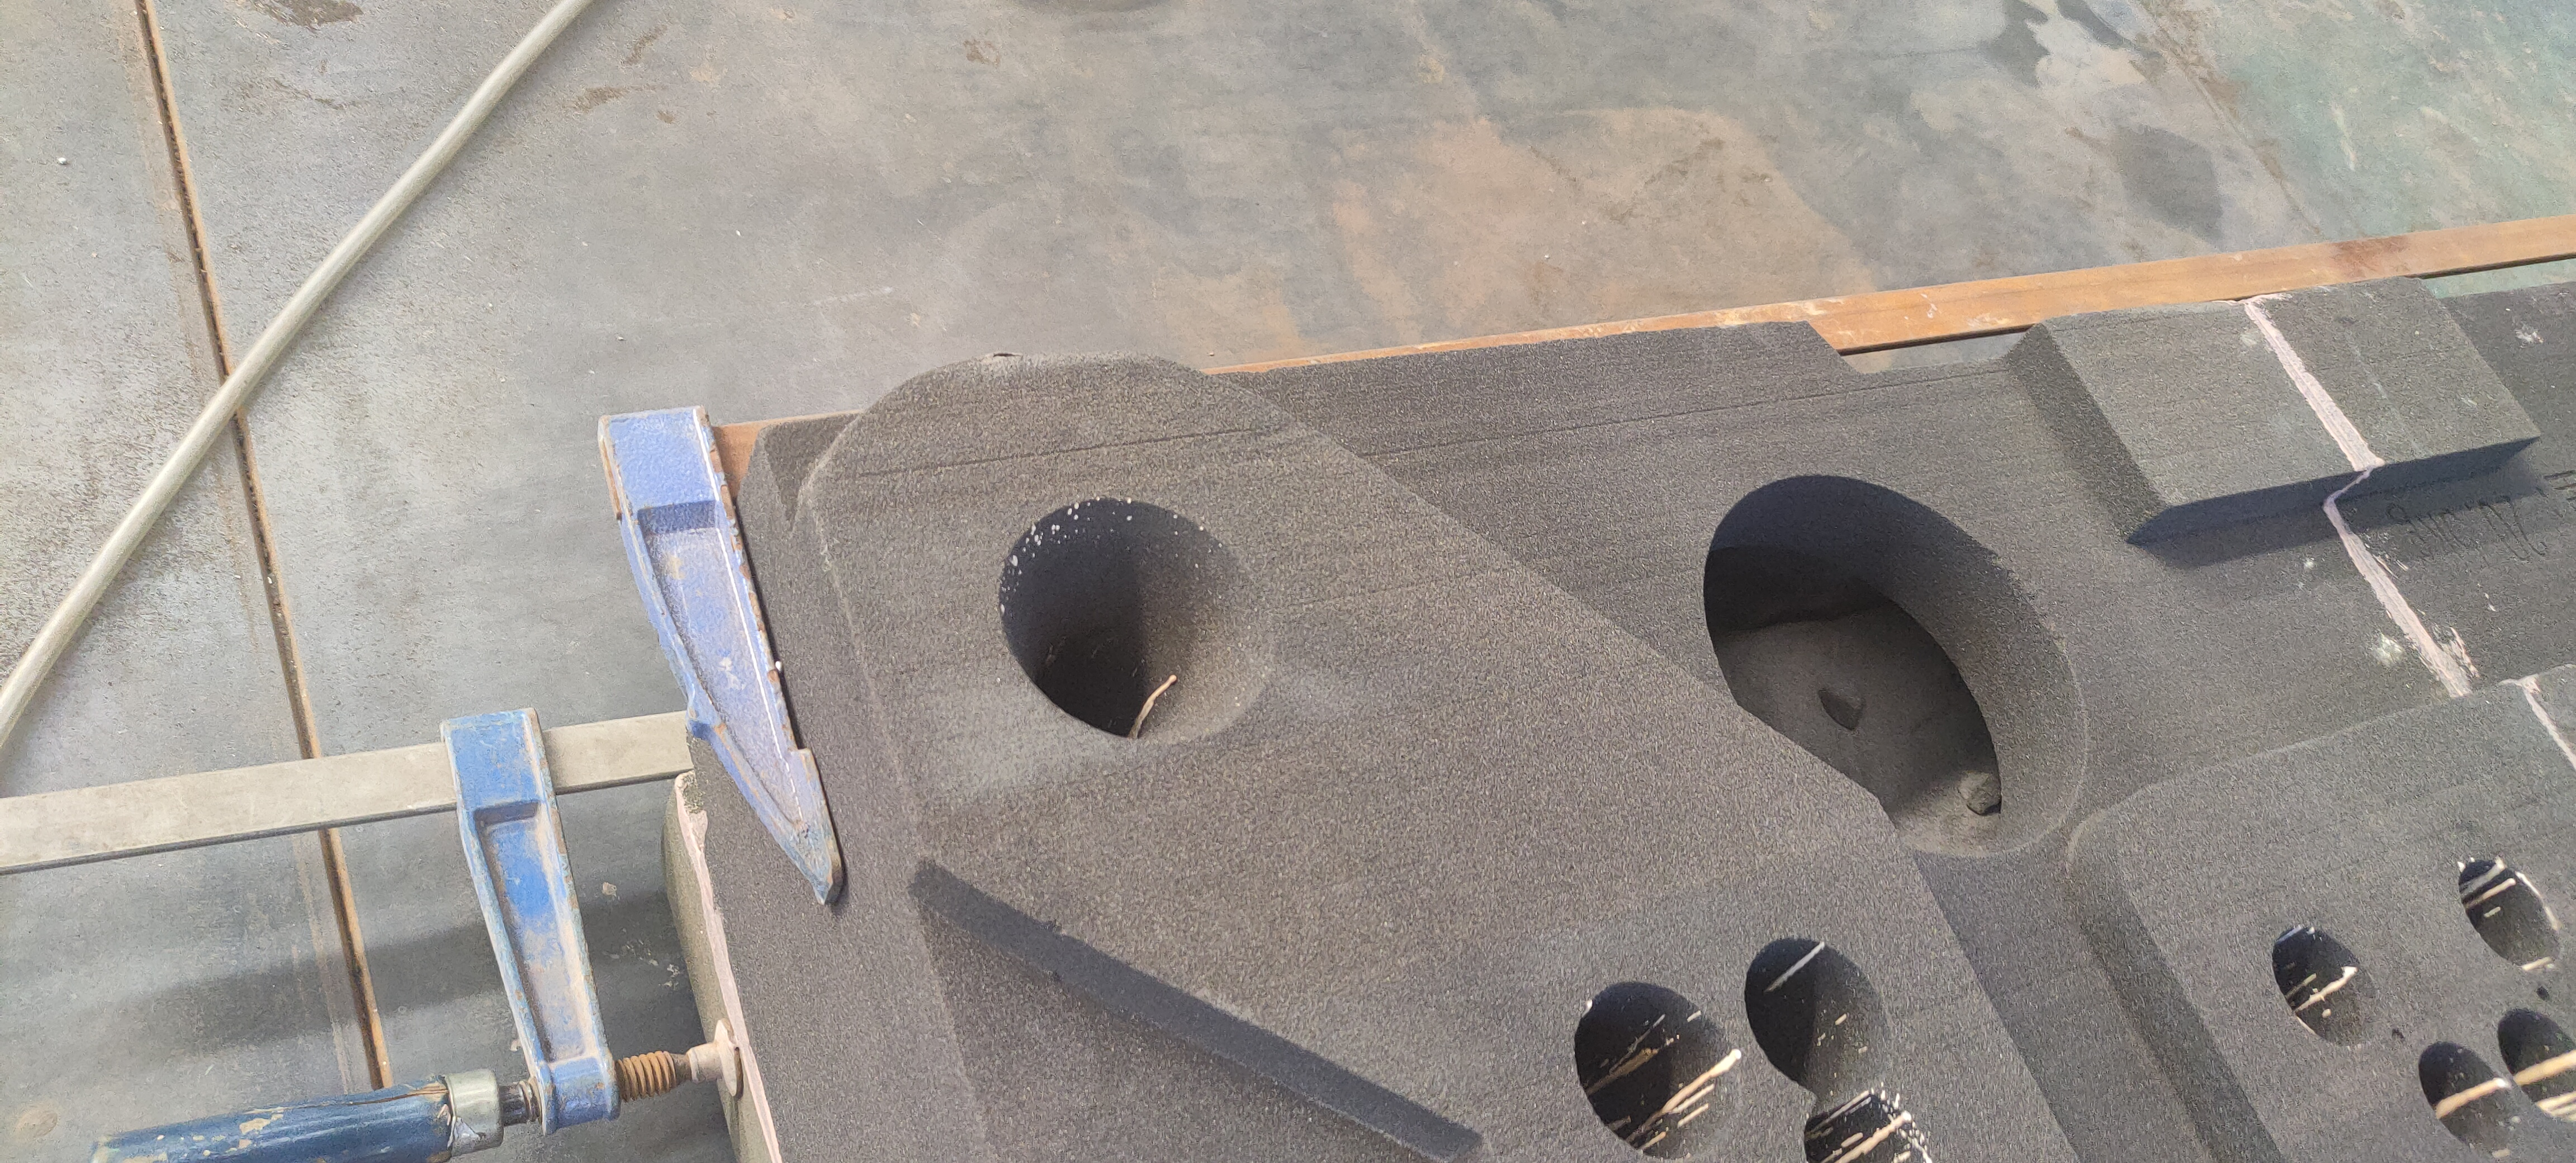pouring hole: (999, 496, 1273, 741)
